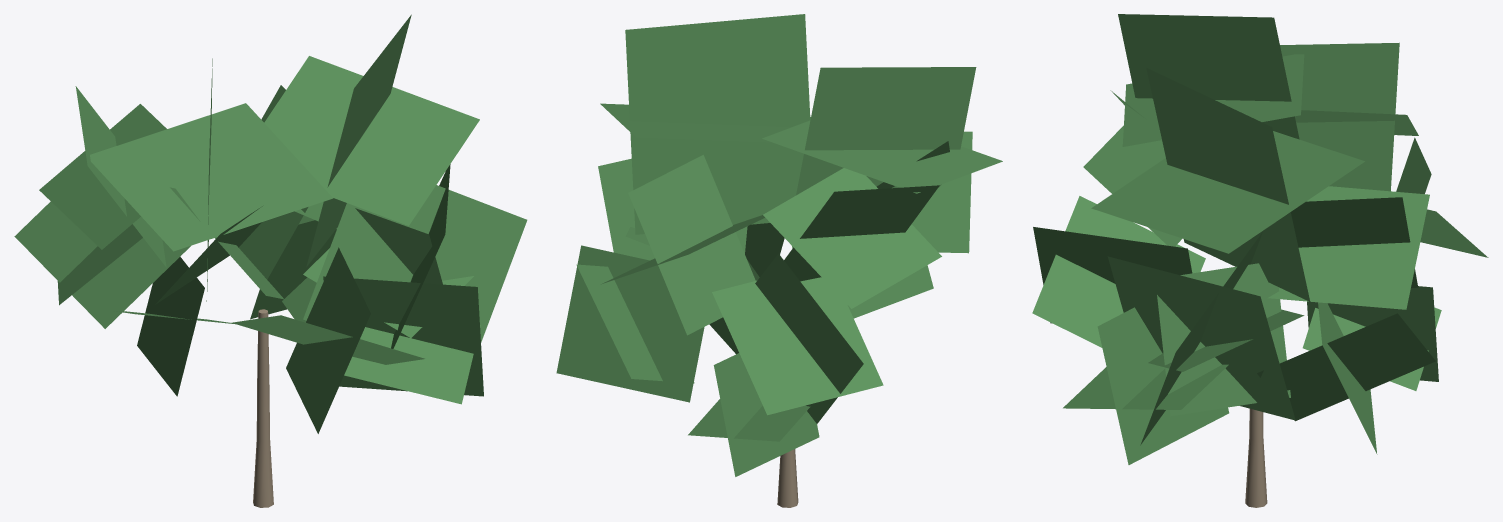
File: tree_ficus_lod1.glb
The picture shows the model from 3 angles, left to right: view 1: azimuth 30°, elevation 25°; view 2: azimuth 150°, elevation 25°; view 3: azimuth 270°, elevation 25°; orthographic projection. The views are drawn at different scales.
Visible parts, largest first — view 1: tree_ficus_lod1; view 2: tree_ficus_lod1; view 3: tree_ficus_lod1.
Boxes of the visible parts, x1=… form: tree_ficus_lod1: x1=14, y1=14, x2=527, y2=507; tree_ficus_lod1: x1=556, y1=14, x2=1002, y2=507; tree_ficus_lod1: x1=1032, y1=14, x2=1488, y2=507.
Bounding box in the file's own units: 4.88 × 5.47 × 4.87.
